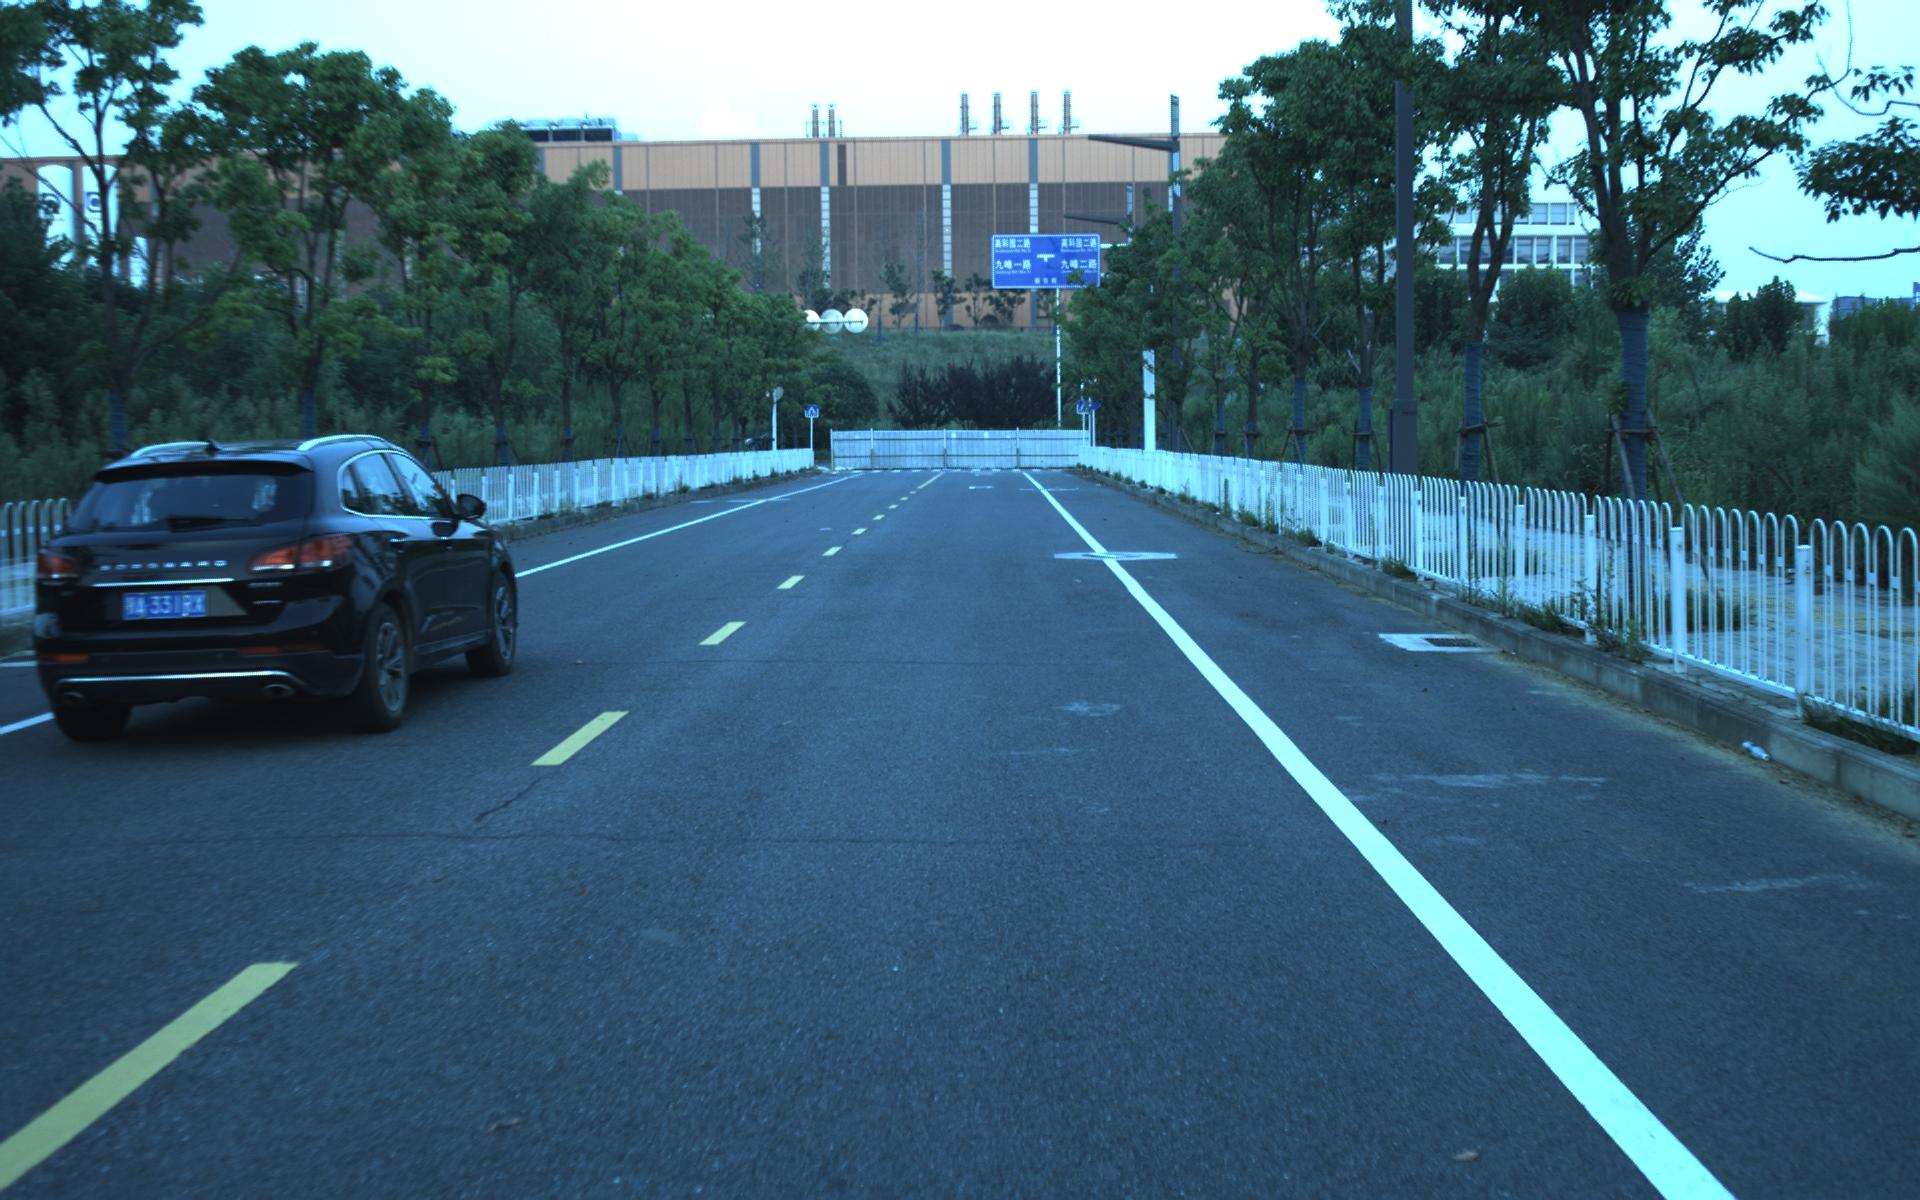Car: (11, 422, 523, 745)
